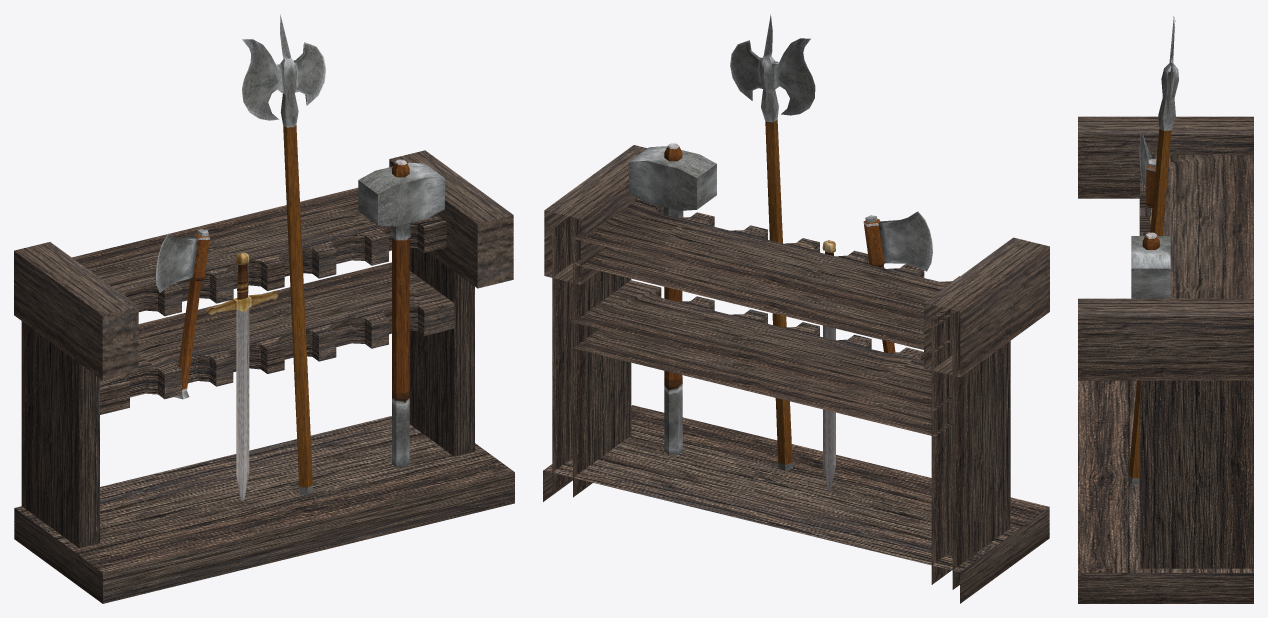
Rendered from mm9_deco_weaponracknsnewg3.glb.
The picture shows the model from 3 angles, left to right: view 1: azimuth 30°, elevation 25°; view 2: azimuth 150°, elevation 25°; view 3: azimuth 270°, elevation 25°; orthographic projection.
Visible parts, largest first — view 1: Weaponracknsnewg3; view 2: Weaponracknsnewg3; view 3: Weaponracknsnewg3.
Part boxes in pixels (x1,y1,x2,y2): Weaponracknsnewg3: (14,14,514,603); Weaponracknsnewg3: (543,14,1049,603); Weaponracknsnewg3: (1078,16,1253,603).
Size of the model in its own units: 1.95 by 2.26 by 0.7263.
Materials: 2 (2 with a texture image).
